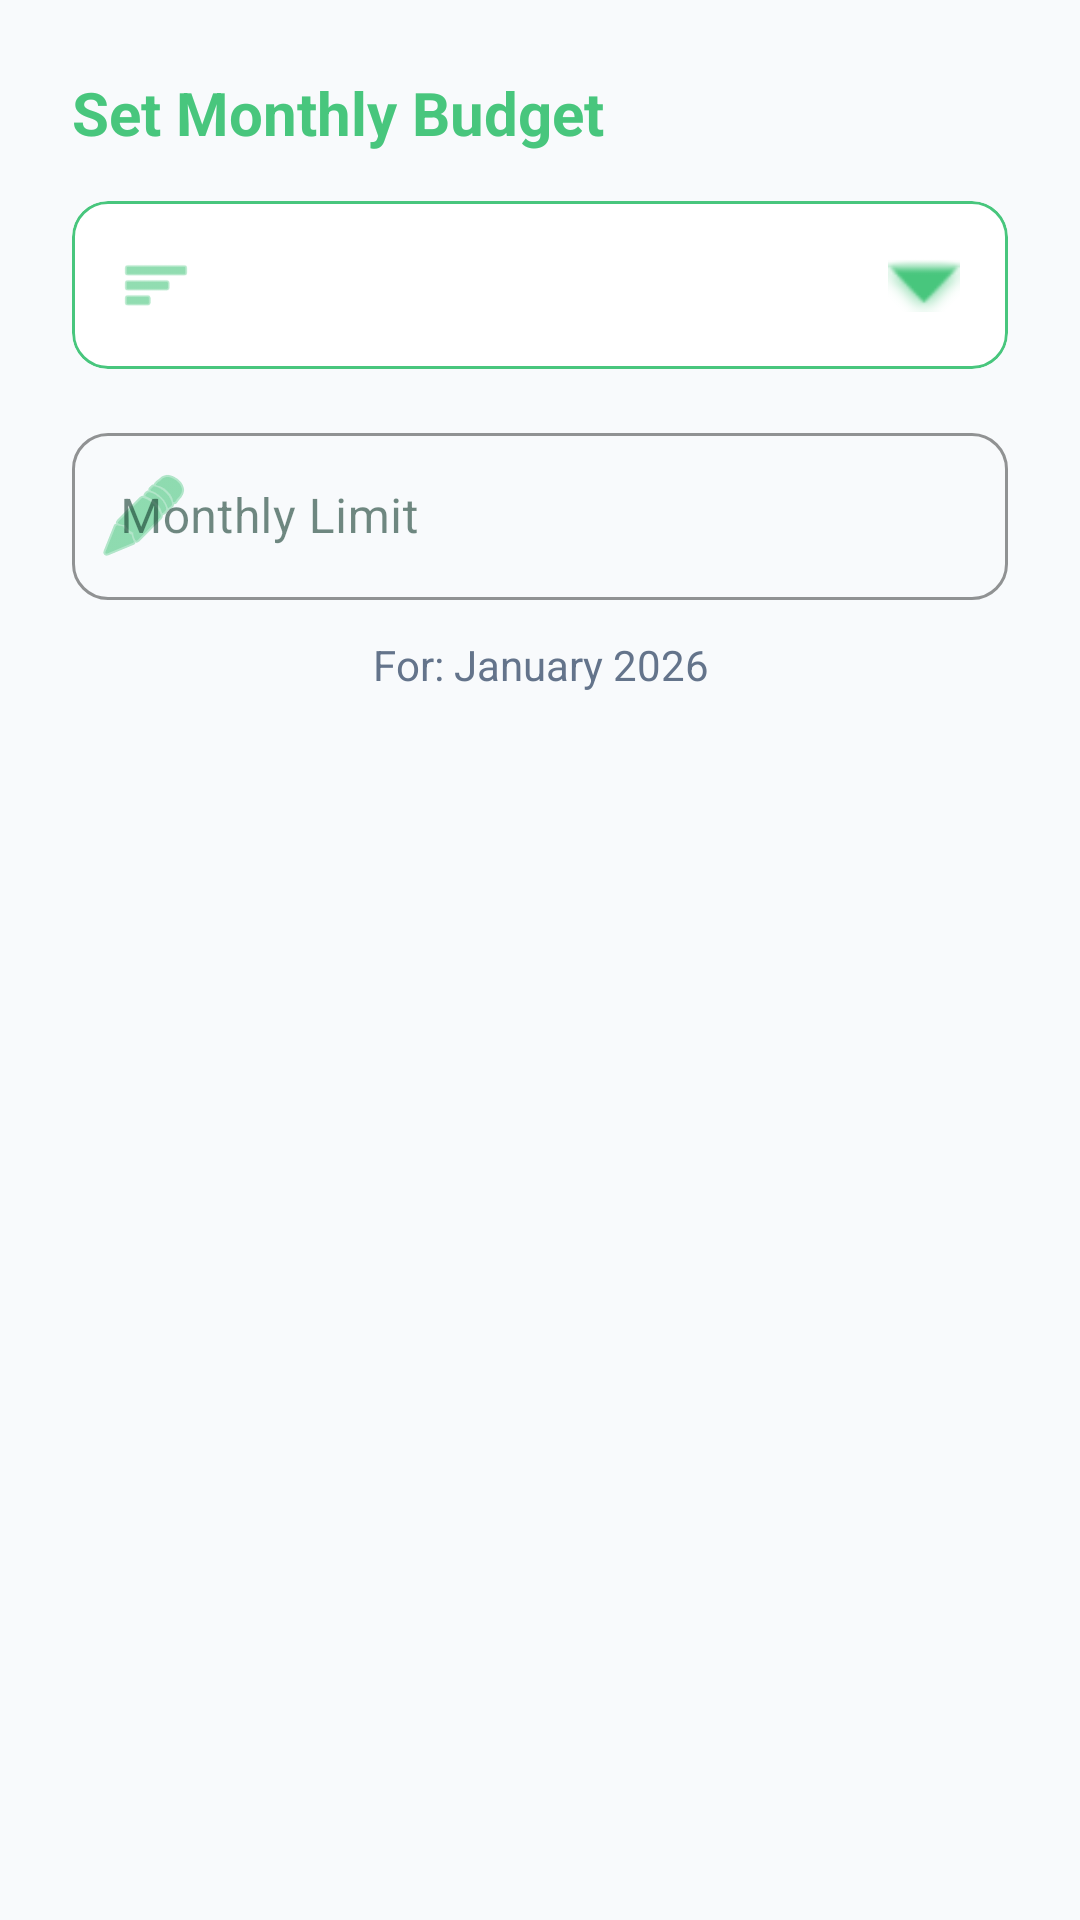

Where to tap for icons on this 1080px×1920px app screen, as point (x, y):
arrow down float: point (924, 285)
sort by size: point (156, 285)
